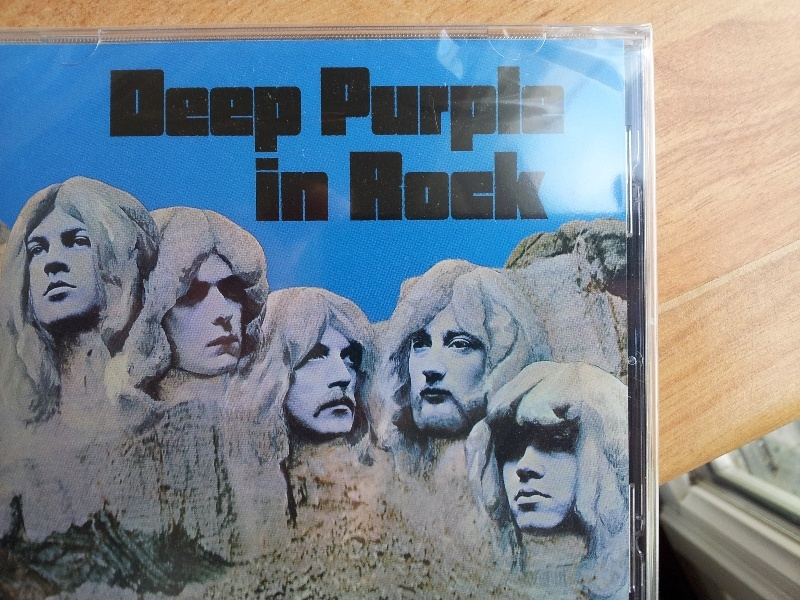text: (321, 66, 336, 154), (337, 66, 352, 154), (353, 66, 368, 154), (369, 66, 384, 154), (385, 66, 400, 154), (401, 66, 416, 154), (417, 66, 432, 154), (433, 66, 448, 154), (449, 66, 464, 154), (465, 66, 480, 154), (481, 66, 496, 154), (497, 66, 512, 154), (513, 66, 528, 154), (529, 66, 544, 154), (545, 66, 560, 154), (113, 69, 128, 154), (129, 69, 144, 154), (145, 69, 160, 154), (161, 69, 176, 154), (177, 69, 192, 154), (193, 69, 208, 154), (209, 69, 224, 154), (225, 69, 240, 154), (241, 69, 256, 154), (257, 69, 272, 154), (273, 69, 288, 154), (289, 69, 303, 154), (353, 151, 368, 222), (369, 151, 384, 222), (385, 151, 400, 222), (401, 151, 416, 222), (417, 151, 432, 222), (433, 151, 448, 222), (449, 151, 464, 222), (465, 151, 480, 222), (481, 151, 496, 222), (497, 151, 512, 222), (513, 151, 528, 222), (529, 151, 544, 222), (257, 158, 272, 223), (273, 158, 288, 223), (289, 158, 304, 223), (305, 158, 320, 223), (321, 158, 330, 223), (561, 66, 565, 154), (545, 151, 549, 222), (349, 151, 352, 222), (110, 69, 112, 154), (254, 158, 256, 223)
